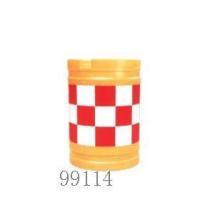sign: (61, 48, 142, 172)
